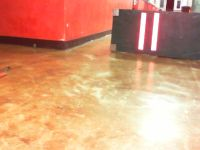switch: (137, 12, 147, 50), (151, 13, 160, 51)
